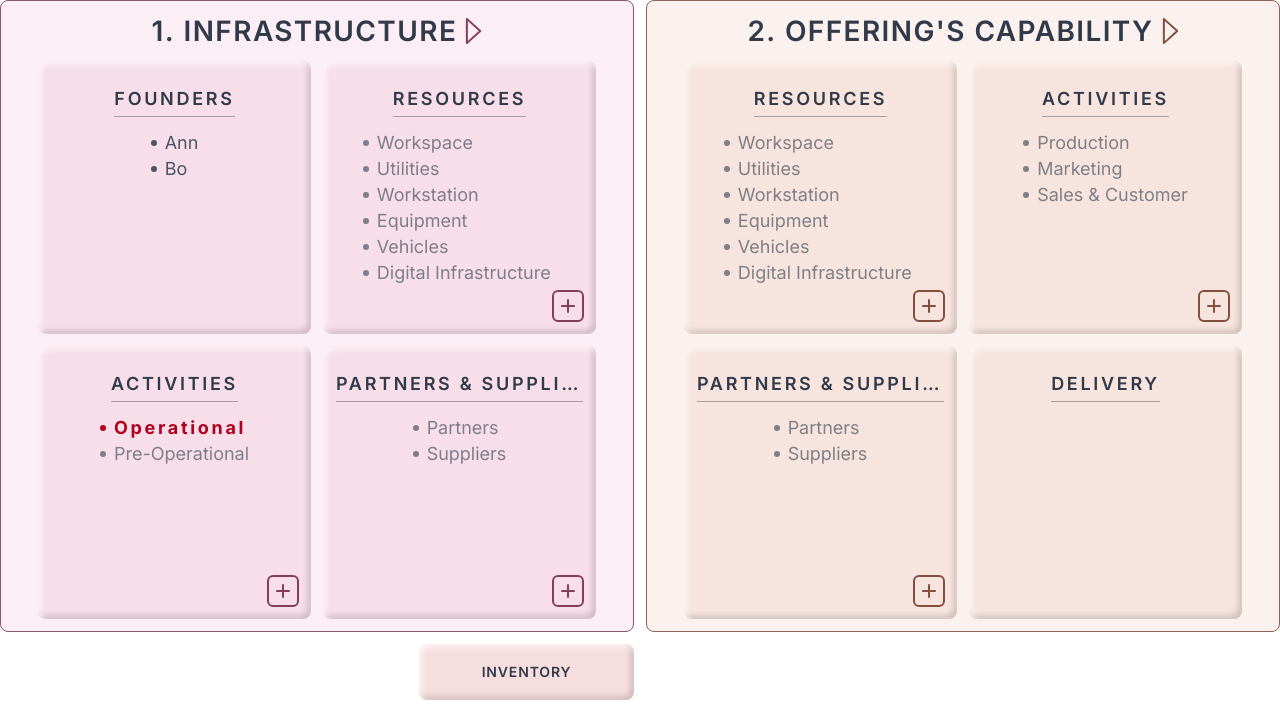
Test: the activity of a card in the editor › is an ordinary activity card: the common head, a number, a name box and a remove x, and no message about a card it follows
Click the button "Activities" below "1.".
click(174, 387)  # box 38,346 -> 311,619
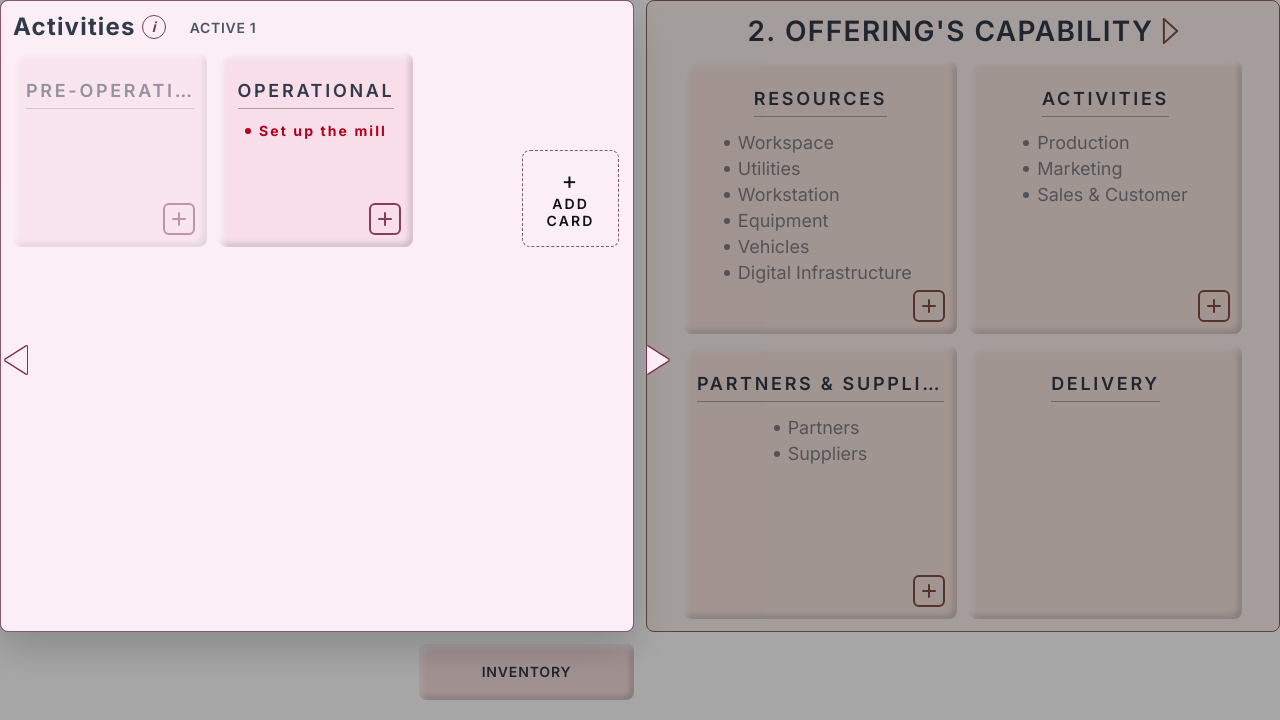
Click the button with class "section-tile" showing "Operational".
click(316, 150)  # box 219,53 -> 413,247
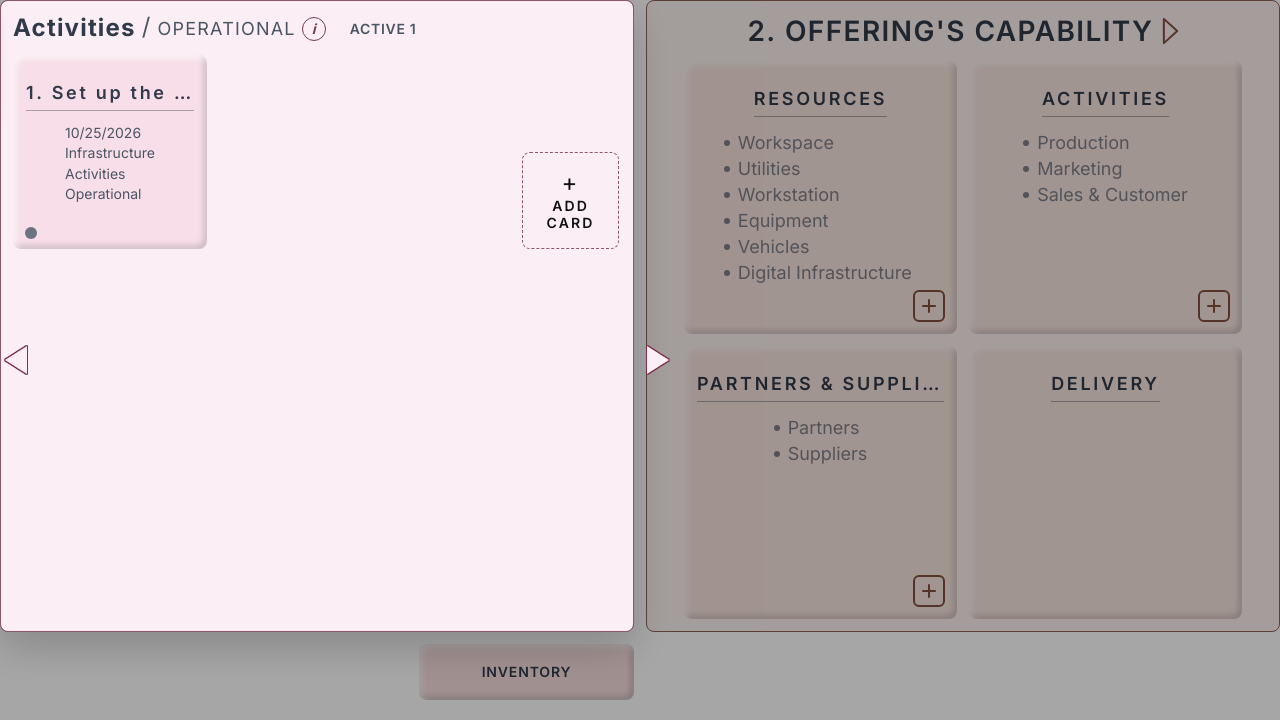
Click the button with class "card-tile".
click(110, 152)  # box 13,55 -> 207,249
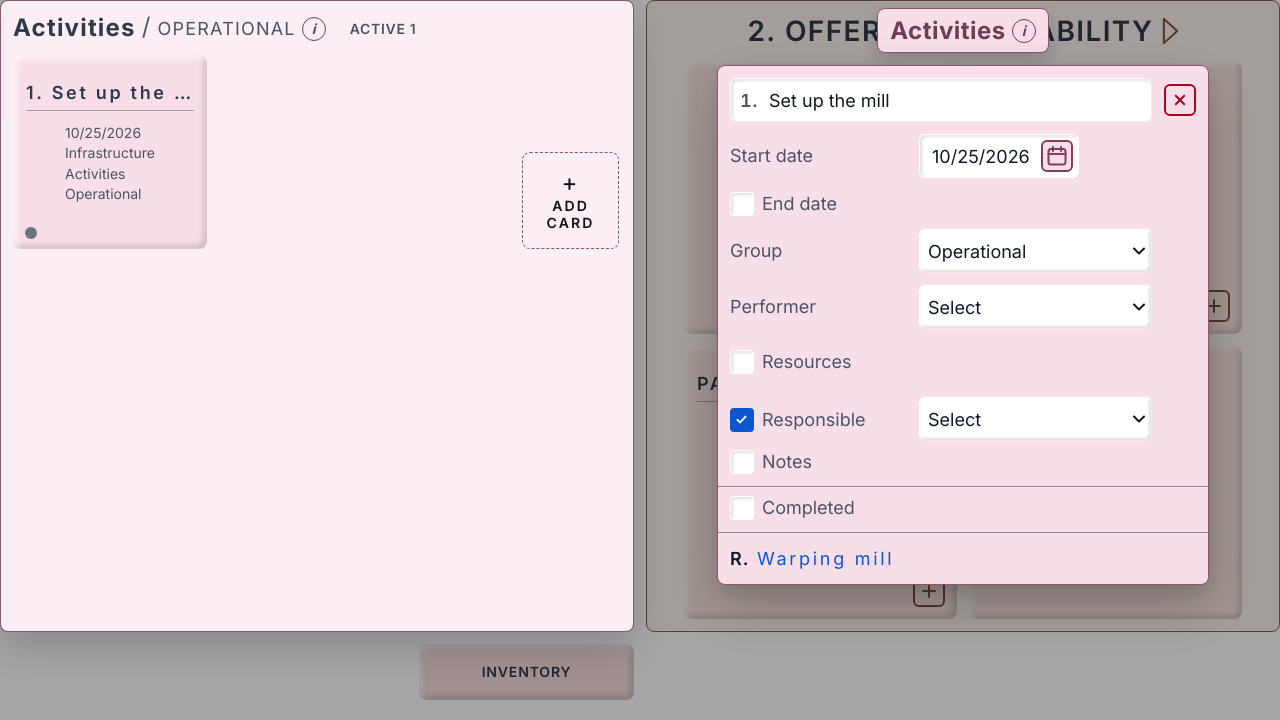
Expected: the text box named "Activity 1 name" is shown, 730,78 -> 1152,122
Expected: the button named "Remove Activity" is shown, 1164,84 -> 1196,116
Expected: the text with class "list-number" reads "1.", 740,90 -> 758,111
